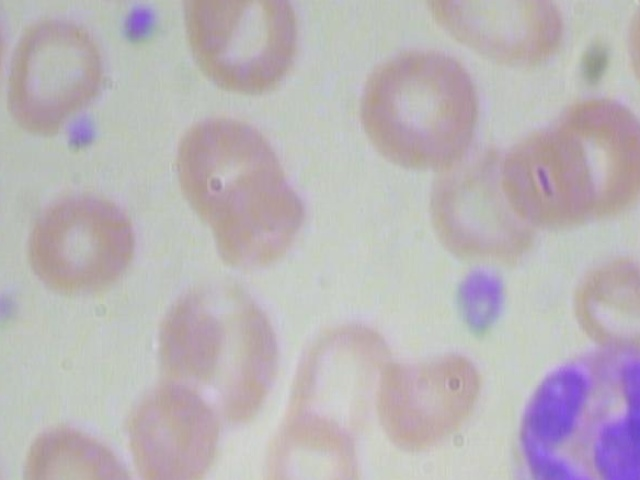Platelets: (439, 259, 517, 354), (109, 0, 168, 51), (61, 111, 112, 169)
RBC: (160, 272, 288, 427), (347, 42, 483, 183), (19, 181, 142, 304), (171, 107, 292, 227), (173, 0, 317, 98), (0, 12, 108, 139), (106, 371, 231, 480), (370, 338, 485, 454), (546, 87, 640, 225), (412, 0, 578, 66), (209, 161, 310, 261), (502, 123, 594, 230), (14, 414, 139, 480), (561, 248, 640, 351), (258, 406, 367, 480)
WBC: (504, 335, 640, 480)
